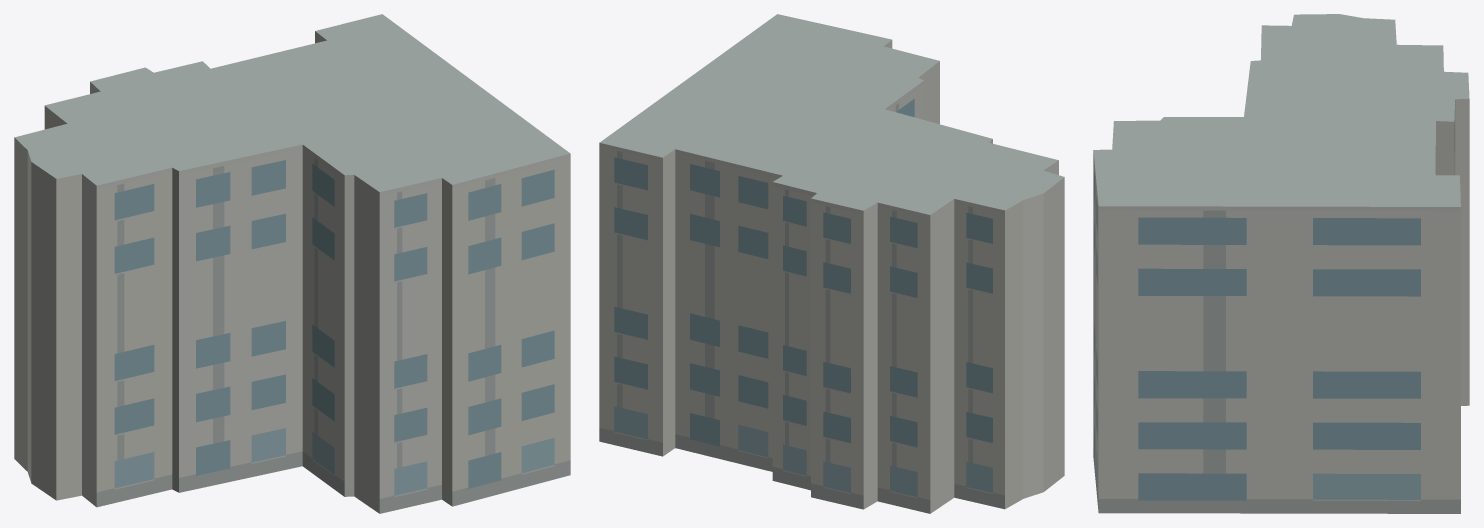
File: survey-upis-32799236.glb
3 views of the same model, side by side, from view 1: azimuth 30°, elevation 25°; view 2: azimuth 150°, elevation 25°; view 3: azimuth 270°, elevation 25° (orthographic). The views are drawn at different scales.
Parts seen in each view (by area): view 1: survey-upis-32799236.tmp; view 2: survey-upis-32799236.tmp; view 3: survey-upis-32799236.tmp.
Part boxes in pixels (<box>): survey-upis-32799236.tmp: <box>14,14,570,513</box>; survey-upis-32799236.tmp: <box>599,14,1064,513</box>; survey-upis-32799236.tmp: <box>1093,14,1469,513</box>.
Bounding box in the file's own units: 24.02 × 17.8 × 19.78.
